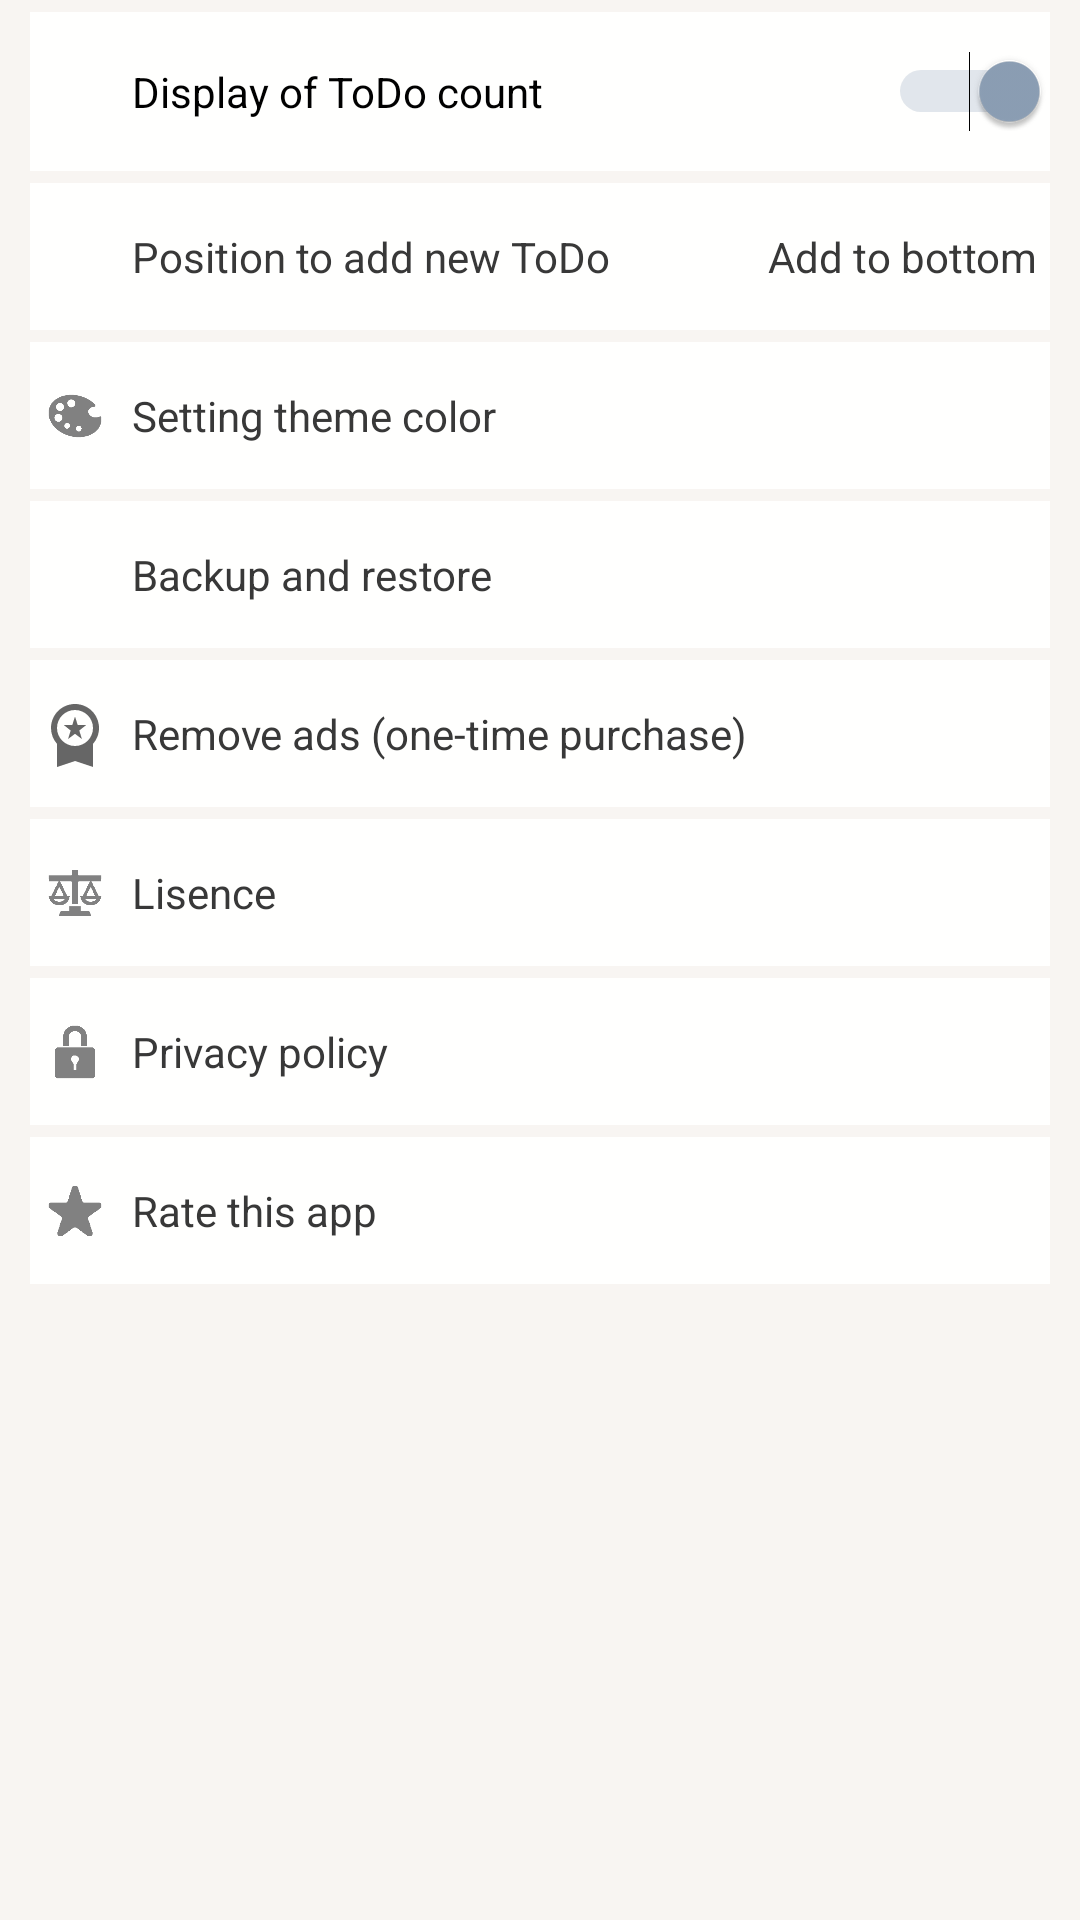

Locate icon controls on the screen. Image size 1080x1920, boxes as (x1, y1, x2, y2).
license: (49, 870, 101, 916)
star: (49, 1186, 101, 1236)
workspace premium: (51, 704, 99, 767)
